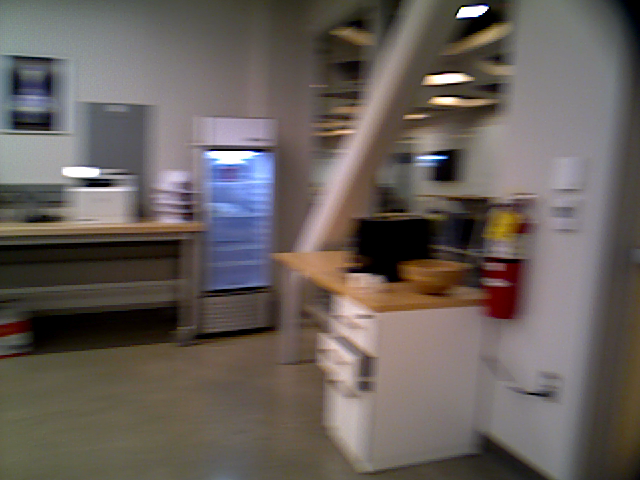painting2: (1, 56, 75, 136)
